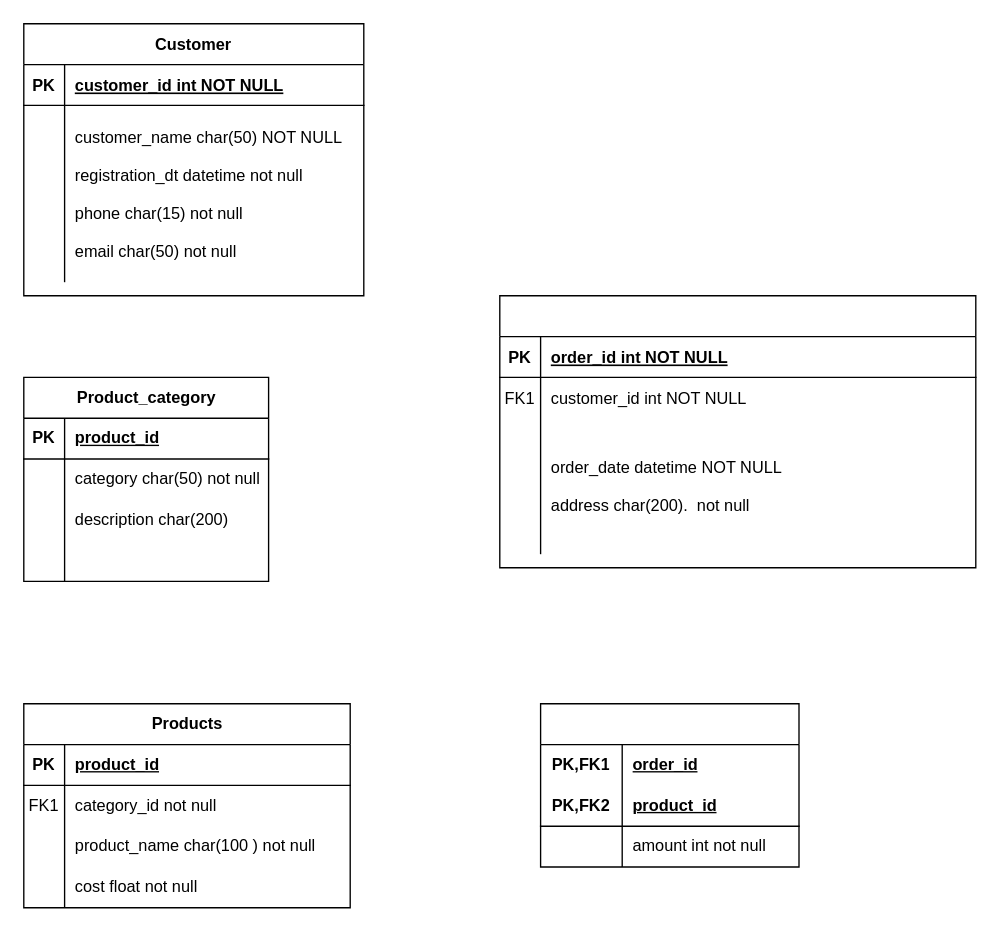
Some shapes in this 1000 by 932 pixel diagram are drawn without their labels. Here are the shapes that lost their labels. From the top down, the box of each, then its label:
(498, 294, 976, 568): Orders
(539, 702, 799, 867): Product_order
